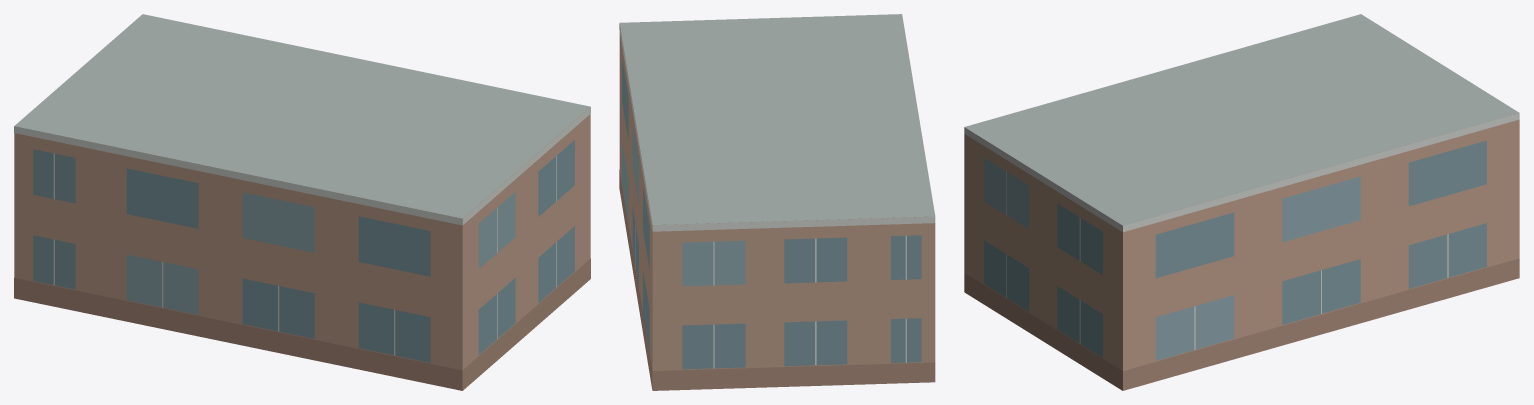
The model's file is survey-upis-32676647.glb.
The picture shows the model from 3 angles, left to right: view 1: azimuth 30°, elevation 25°; view 2: azimuth 150°, elevation 25°; view 3: azimuth 270°, elevation 25°; orthographic projection. The views are drawn at different scales.
Parts seen in each view (by area): view 1: survey-upis-32676647.tmp; view 2: survey-upis-32676647.tmp; view 3: survey-upis-32676647.tmp.
Part boxes in pixels (x1=…): survey-upis-32676647.tmp: x1=14, y1=14, x2=590, y2=390; survey-upis-32676647.tmp: x1=619, y1=14, x2=935, y2=390; survey-upis-32676647.tmp: x1=964, y1=14, x2=1519, y2=390.
Size of the model in its own units: 16.78 by 6.1 by 18.6.
